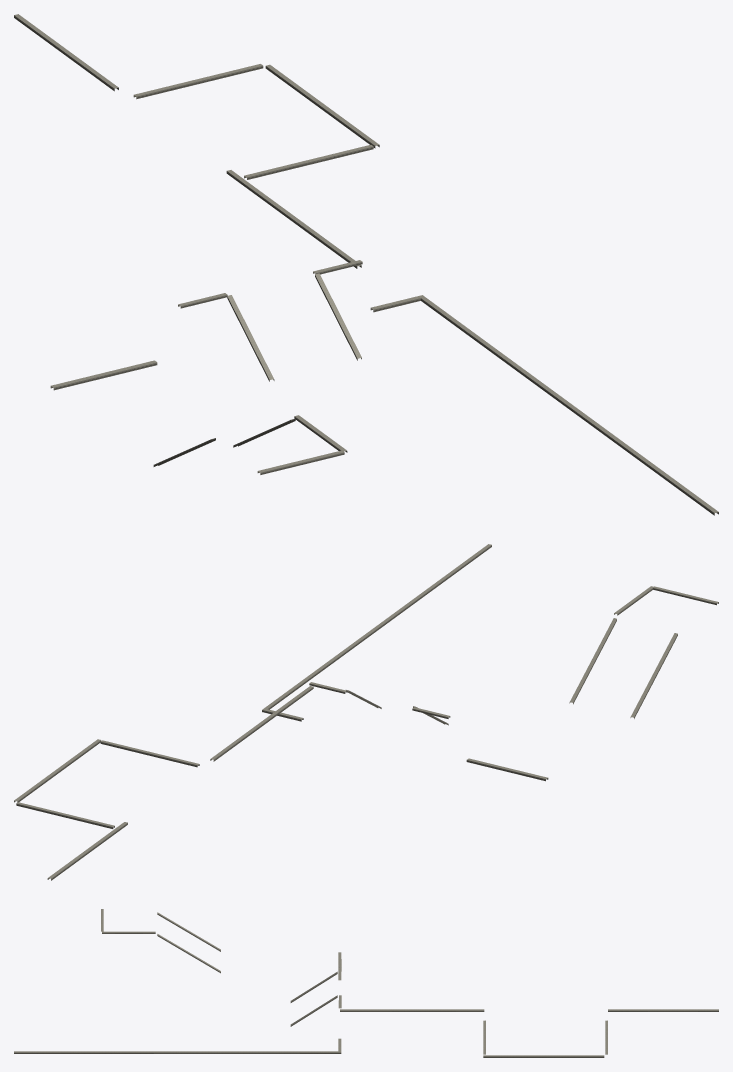
The model's file is dcfx2_fulan_02.FBX.
The picture shows the model from 3 angles, top to bottom: view 1: azimuth 30°, elevation 25°; view 2: azimuth 150°, elevation 25°; view 3: azimuth 270°, elevation 25°; orthographic projection. The views are drawn at different scales.
Parts seen in each view (by area): view 1: dcfx2_fulan_02; view 2: dcfx2_fulan_02; view 3: dcfx2_fulan_02.
Boxes of the visible parts, box(x1,y1,x2,y2) form: dcfx2_fulan_02: box(14, 14, 718, 515); dcfx2_fulan_02: box(14, 544, 718, 880); dcfx2_fulan_02: box(14, 909, 718, 1057).
Bounding box in the file's own units: 3281 × 538 × 7790.
